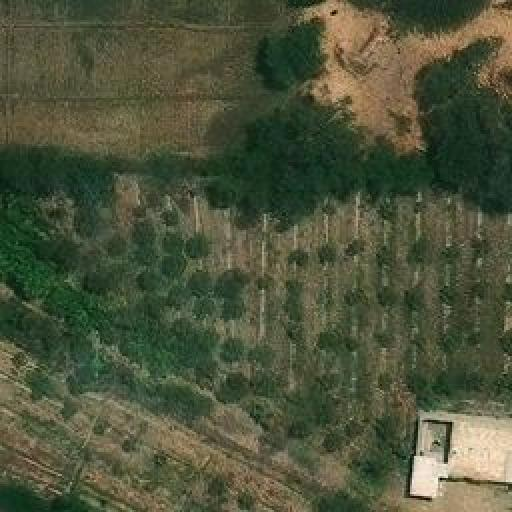manzanas: (408, 408, 510, 510)
